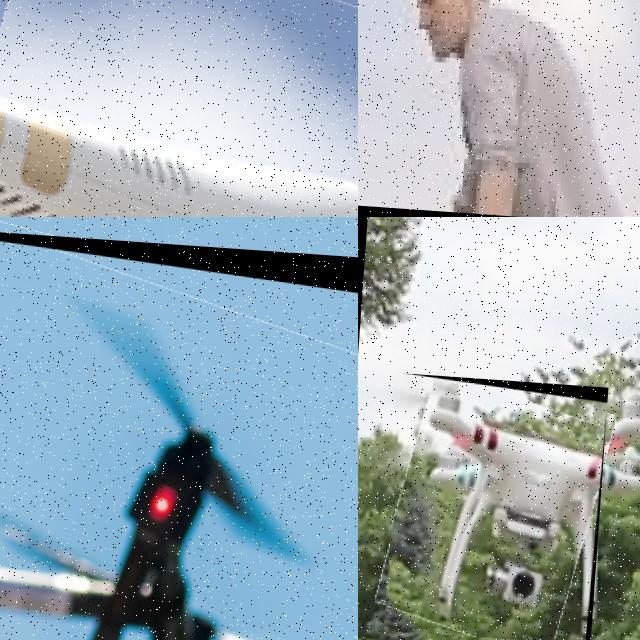0: (0, 0, 358, 217), (383, 373, 607, 640)
drone: (0, 223, 358, 640)
